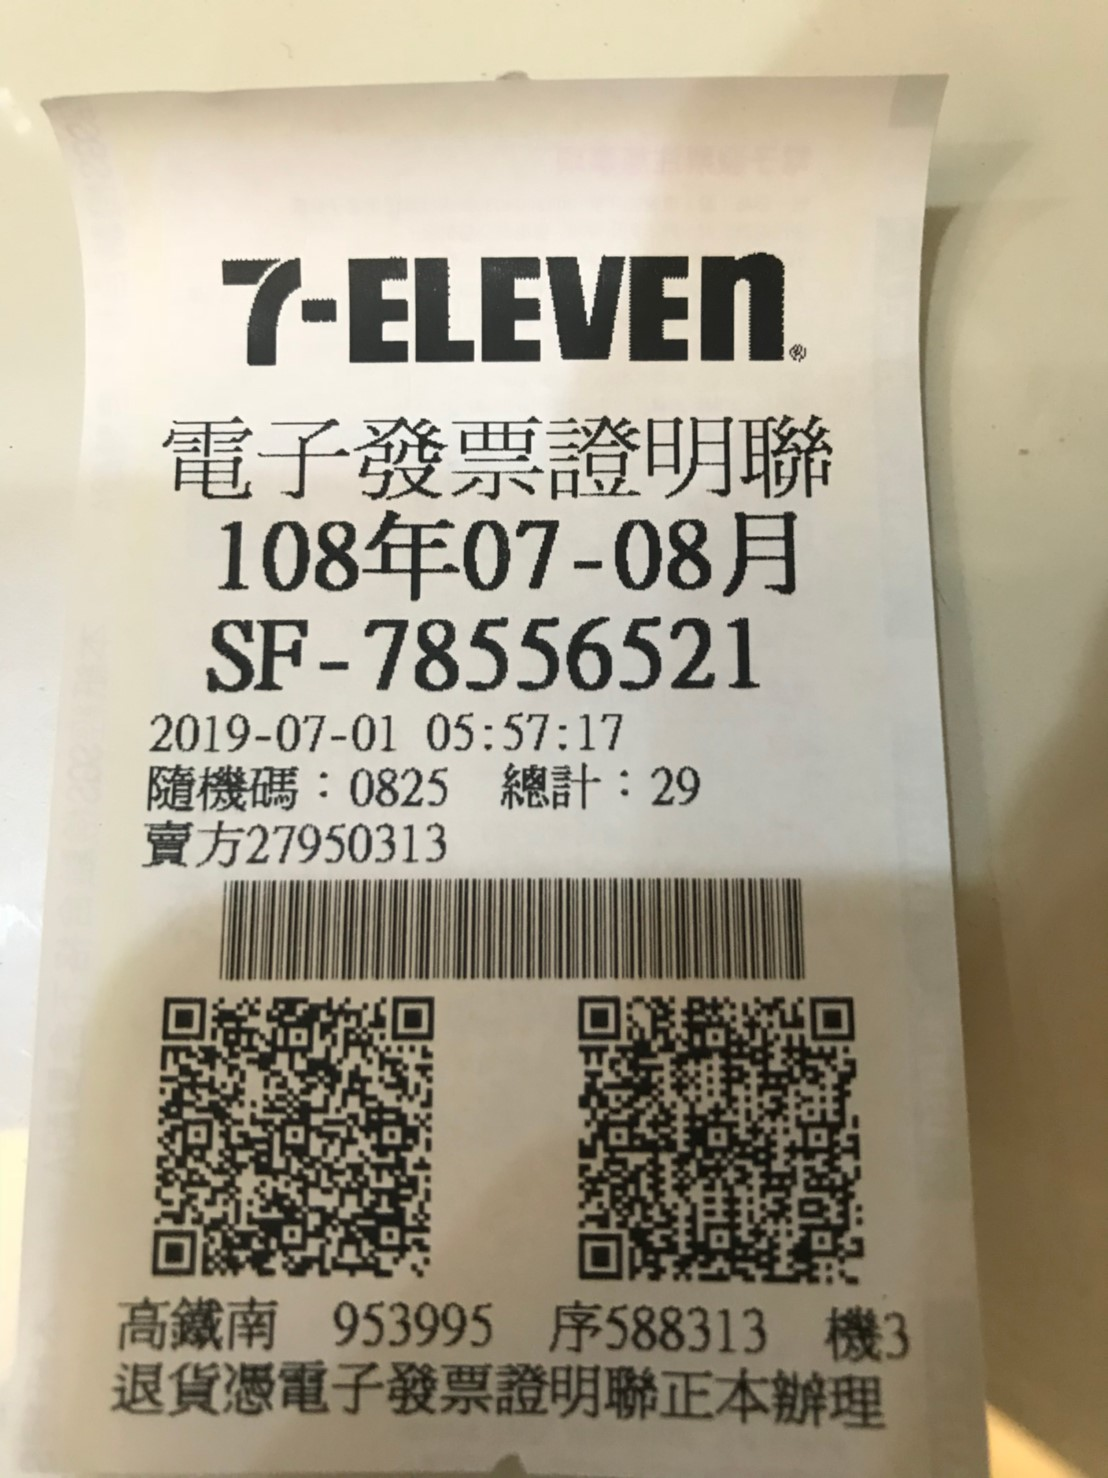Date_New: (214, 510, 807, 603)
Number_New: (365, 607, 772, 696)
